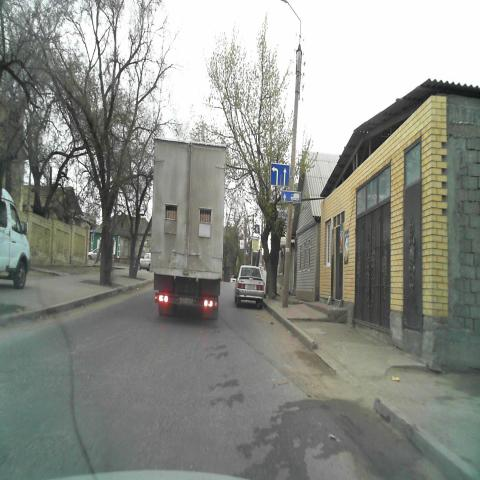5_15_2_2: (270, 162, 290, 187)
6_15_1: (281, 190, 301, 204)
